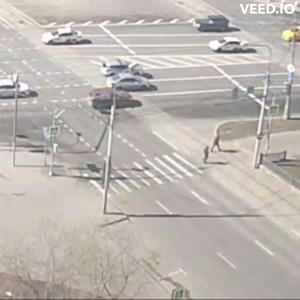car: (92, 89, 143, 114), (210, 37, 258, 55), (2, 81, 40, 101), (114, 77, 158, 94), (98, 59, 144, 75), (44, 32, 90, 47), (197, 17, 234, 35)
